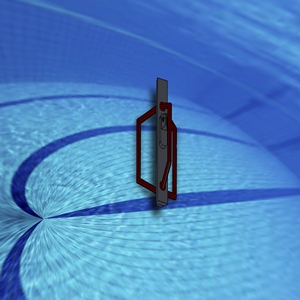submarine: (112, 62, 208, 218)
